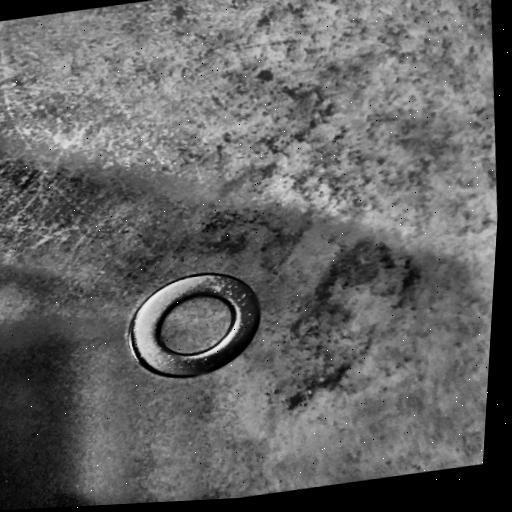Washer: (127, 273, 262, 379)
